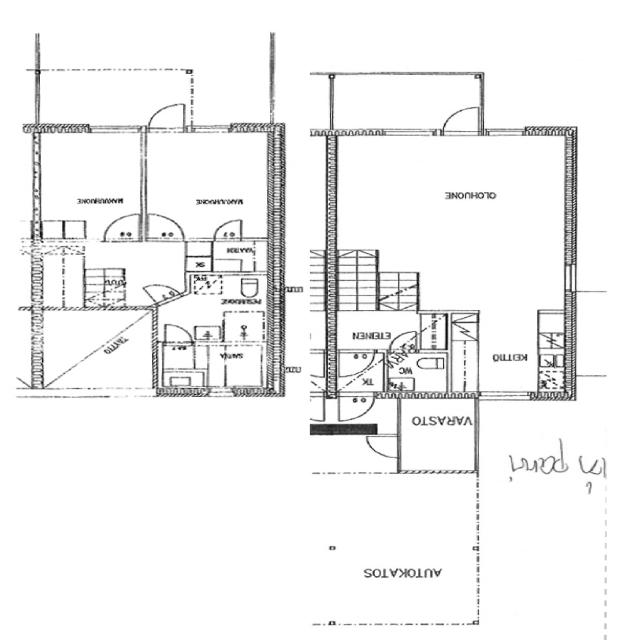door: (148, 98, 185, 132), (442, 102, 478, 136), (338, 391, 375, 424), (143, 277, 182, 306), (338, 349, 375, 378), (147, 214, 184, 242), (103, 214, 139, 242), (367, 437, 401, 457), (165, 323, 193, 346), (389, 330, 416, 353), (215, 220, 241, 242)
